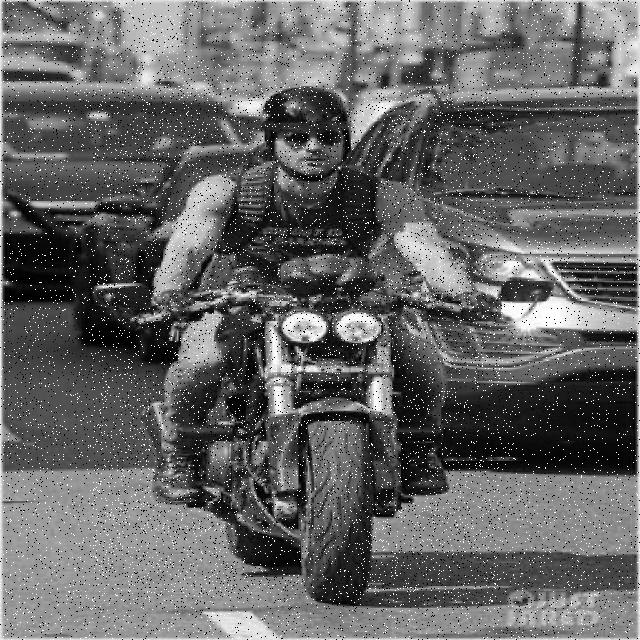Motorbike: (92, 87, 500, 602)
